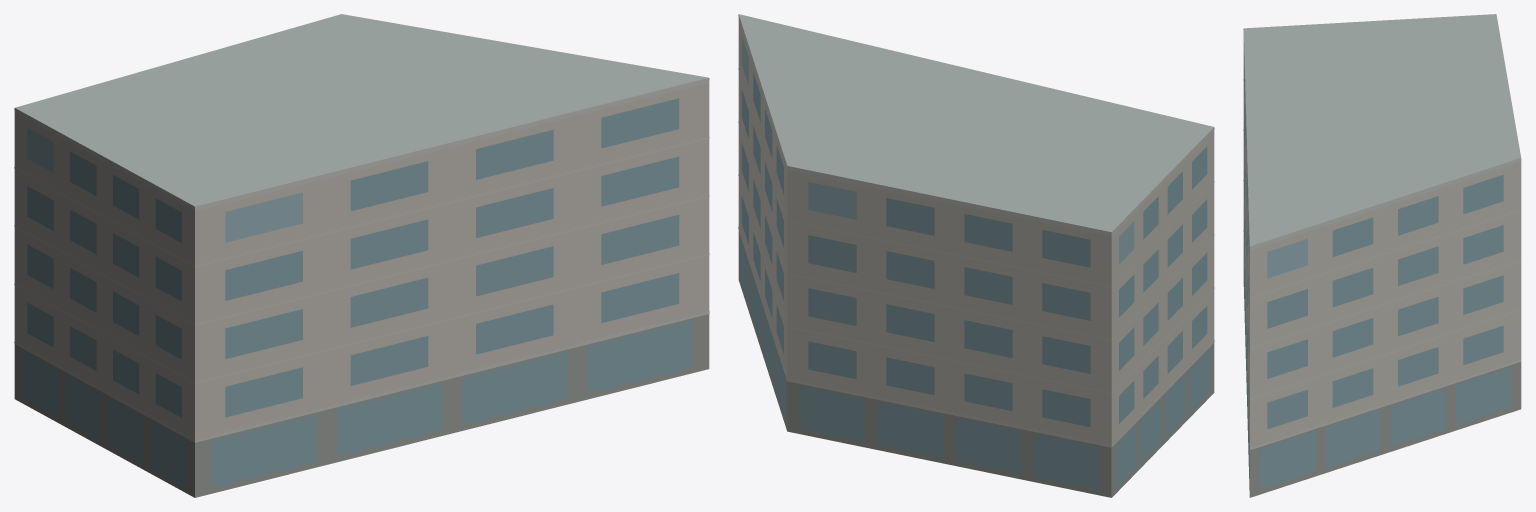
File: survey-upis-32732910.glb
3 renders of one model, left to right at view 1: azimuth 30°, elevation 25°; view 2: azimuth 150°, elevation 25°; view 3: azimuth 270°, elevation 25°, orthographic. The views are drawn at different scales.
Parts seen in each view (by area): view 1: survey-upis-32732910.tmp; view 2: survey-upis-32732910.tmp; view 3: survey-upis-32732910.tmp.
Part boxes in pixels (x1,y1,x2,y2): survey-upis-32732910.tmp: (14, 14, 709, 497); survey-upis-32732910.tmp: (738, 14, 1214, 497); survey-upis-32732910.tmp: (1243, 14, 1521, 497).
Bounding box in the file's own units: 29.57 × 14.9 × 14.93.
